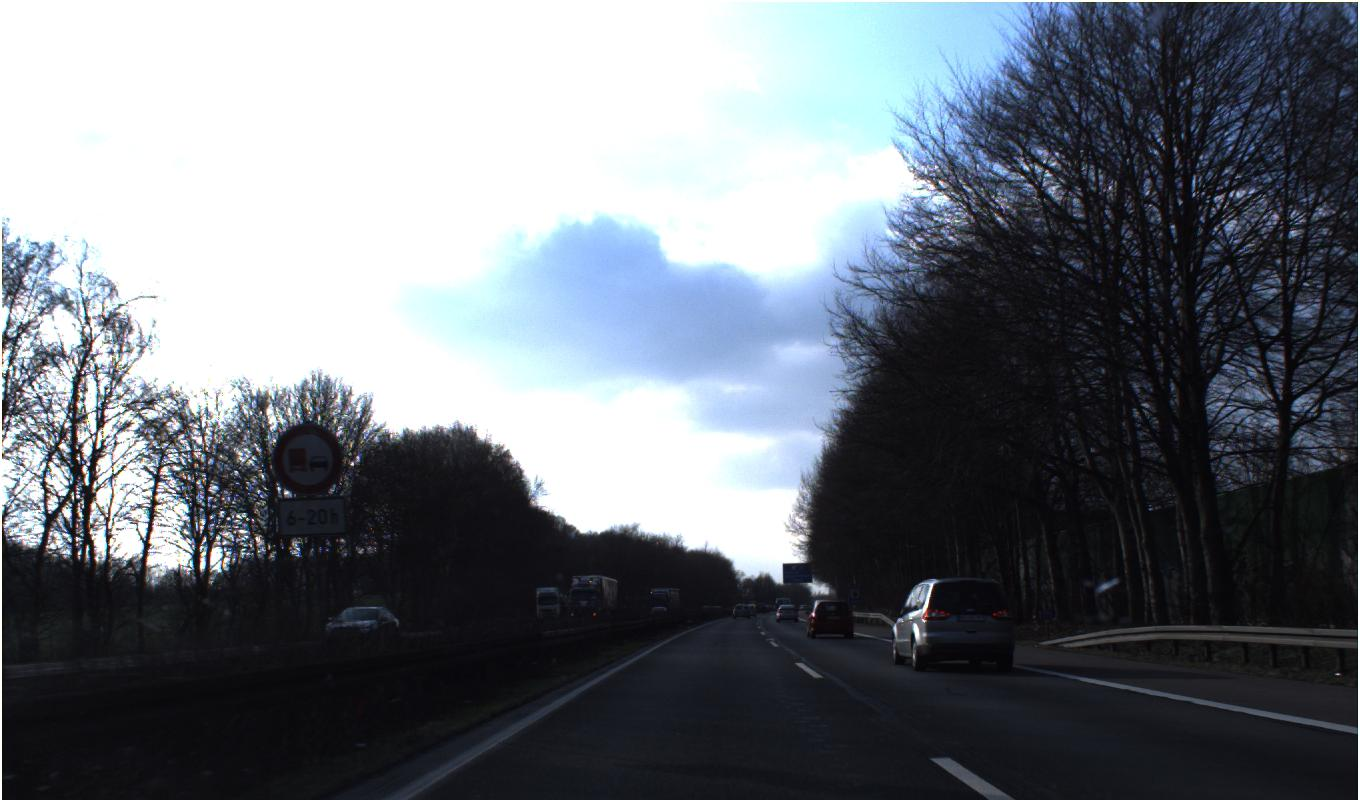prohibitory: (271, 422, 345, 496)
